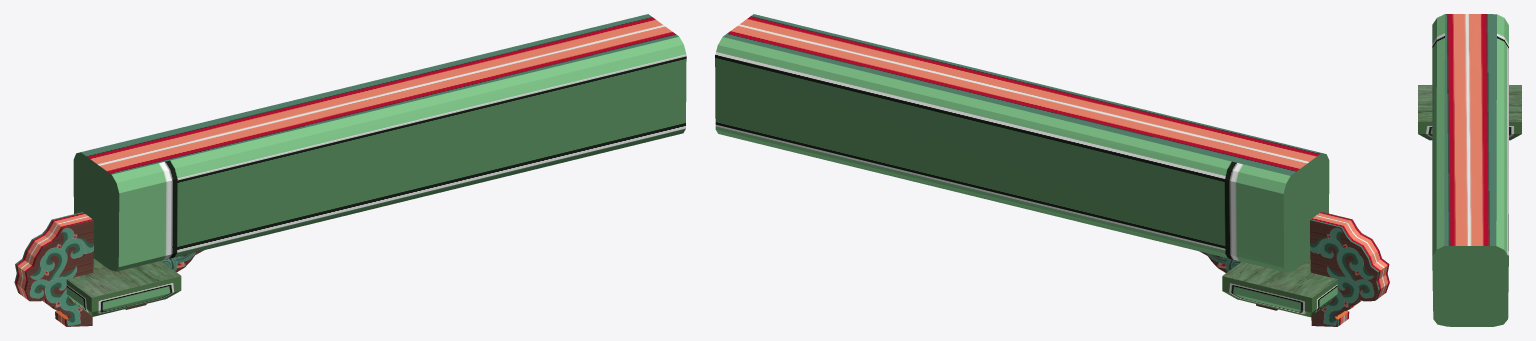
Rendered from SM_R_Beam_6.fbx.
3 renders of one model, left to right at view 1: azimuth 30°, elevation 25°; view 2: azimuth 150°, elevation 25°; view 3: azimuth 270°, elevation 25°, orthographic. The views are drawn at different scales.
Parts seen in each view (by area): view 1: SM_R_Beam_6; view 2: SM_R_Beam_6; view 3: SM_R_Beam_6.
Boxes of the visible parts, x1,y1,x2,y2 form: SM_R_Beam_6: [14, 14, 686, 326]; SM_R_Beam_6: [715, 14, 1389, 326]; SM_R_Beam_6: [1418, 14, 1521, 326].
Size of the model in its own units: 423 by 70.51 by 97.49.
6 materials, 6 textured.
